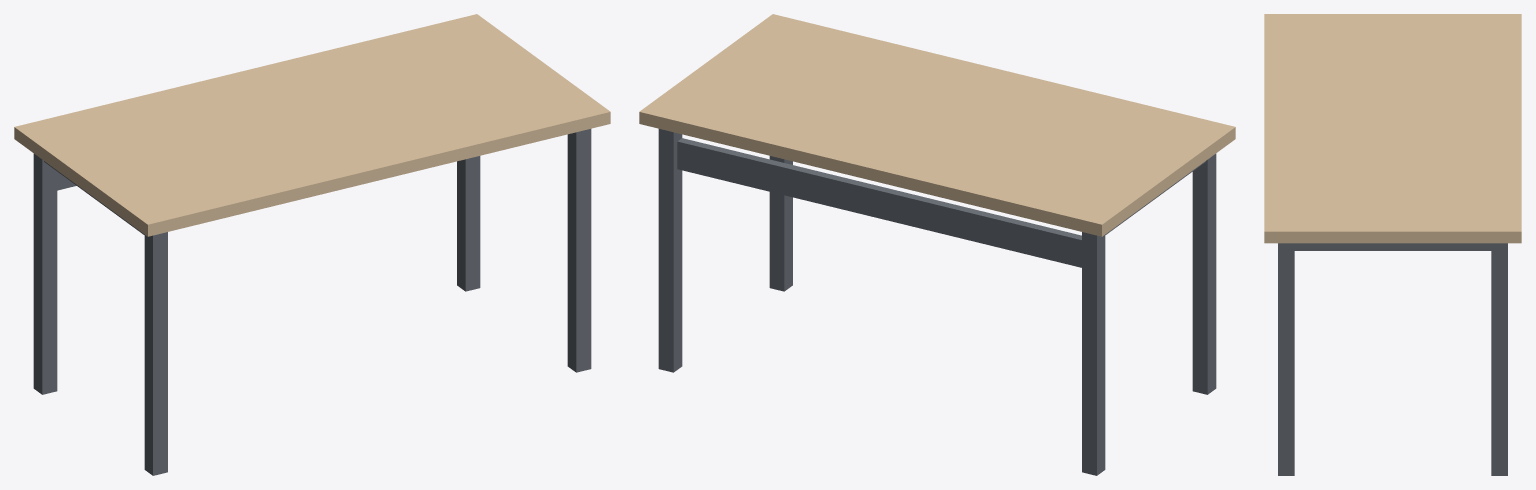
The model's file is furniture_desk_basic.glb.
3 views of the same model, side by side, from view 1: azimuth 30°, elevation 25°; view 2: azimuth 150°, elevation 25°; view 3: azimuth 270°, elevation 25° (orthographic). The views are drawn at different scales.
Visible parts, largest first — view 1: DeskBasic; view 2: DeskBasic; view 3: DeskBasic.
Boxes of the visible parts, x1,y1,x2,y2 form: DeskBasic: (14,14,610,475); DeskBasic: (639,14,1235,475); DeskBasic: (1264,14,1521,475).
Size of the model in its own units: 1.4 by 0.75 by 0.7.
